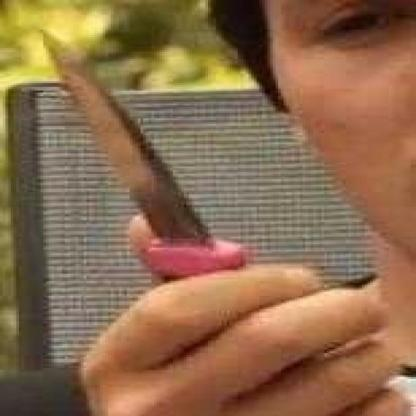Knife: (29, 26, 340, 370)
